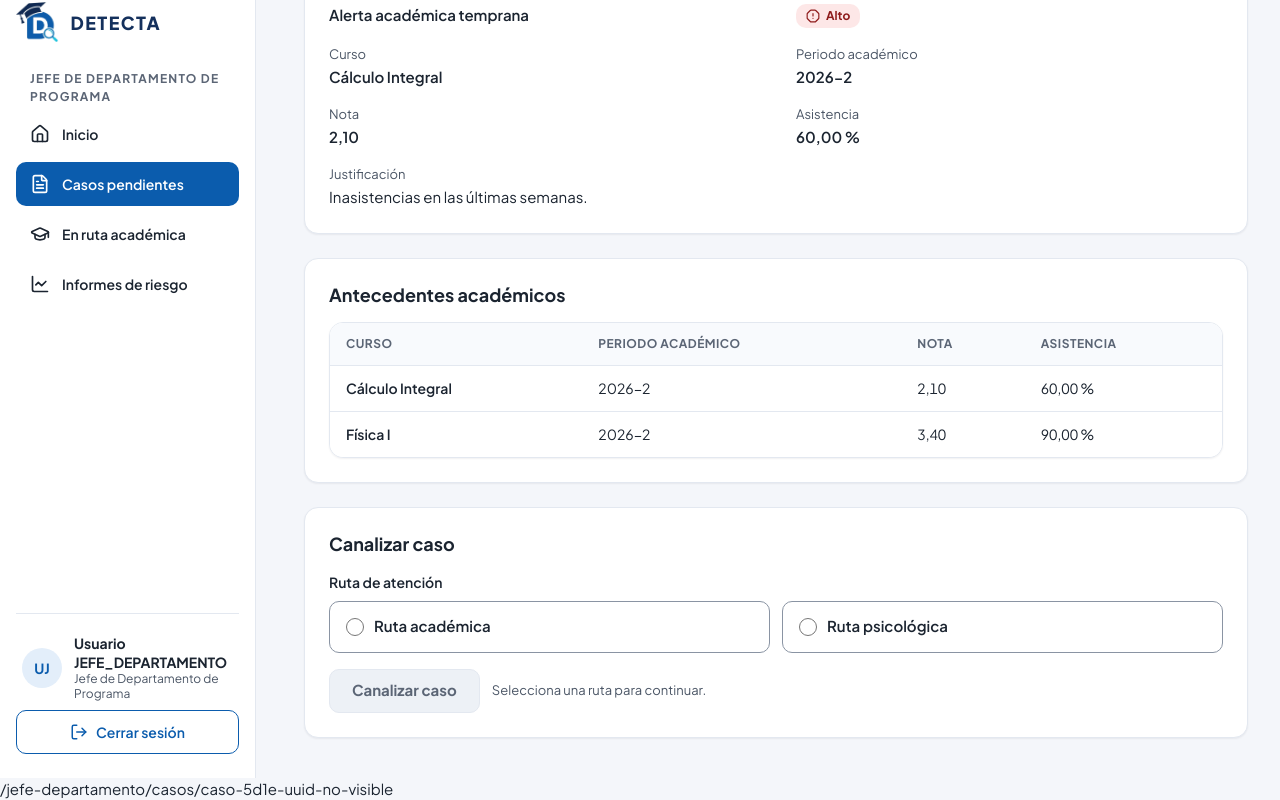
Canalización del caso (CUD04) › académica: confirma y abre el plan de nivelación en la misma vista
(page scrolled)
Click the radio button labelled "Ruta académica": (355, 627) [346,618,364,636]
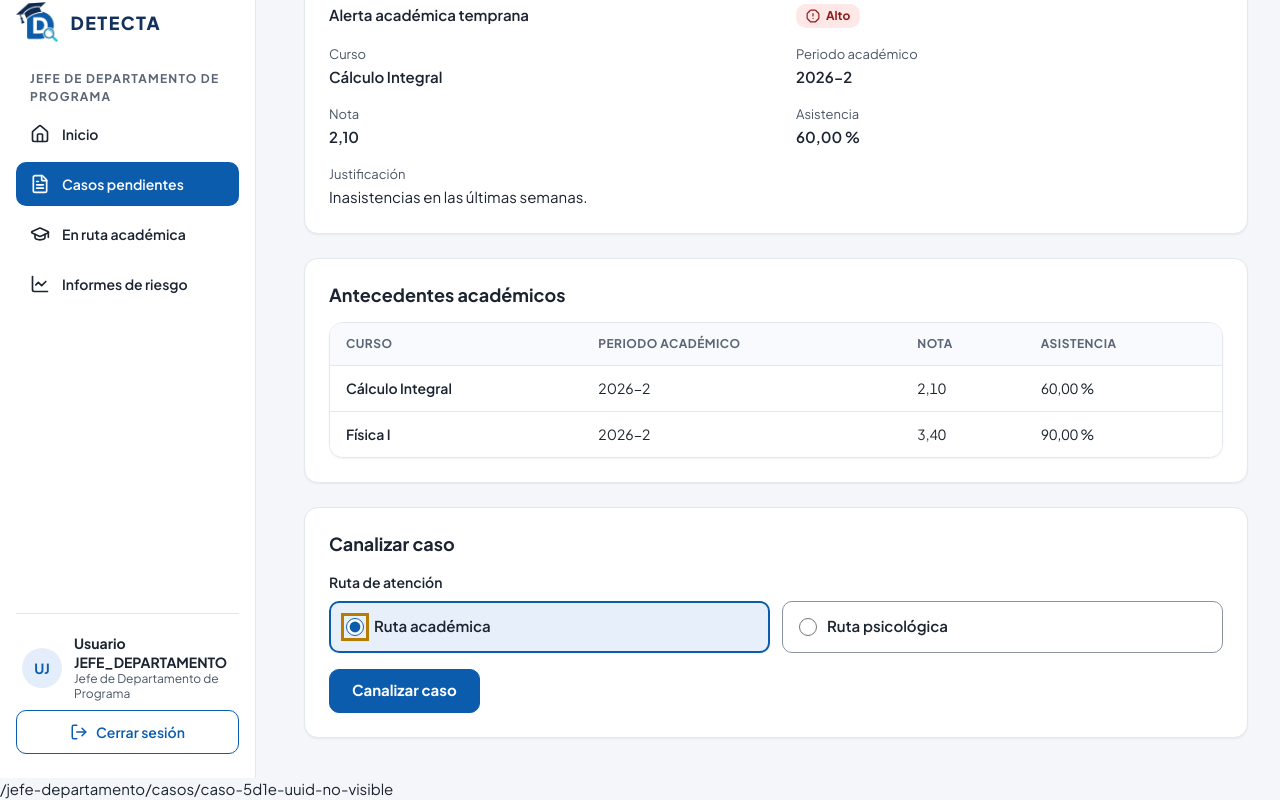
Click the button "Canalizar caso": (404, 691) [329,669,480,713]
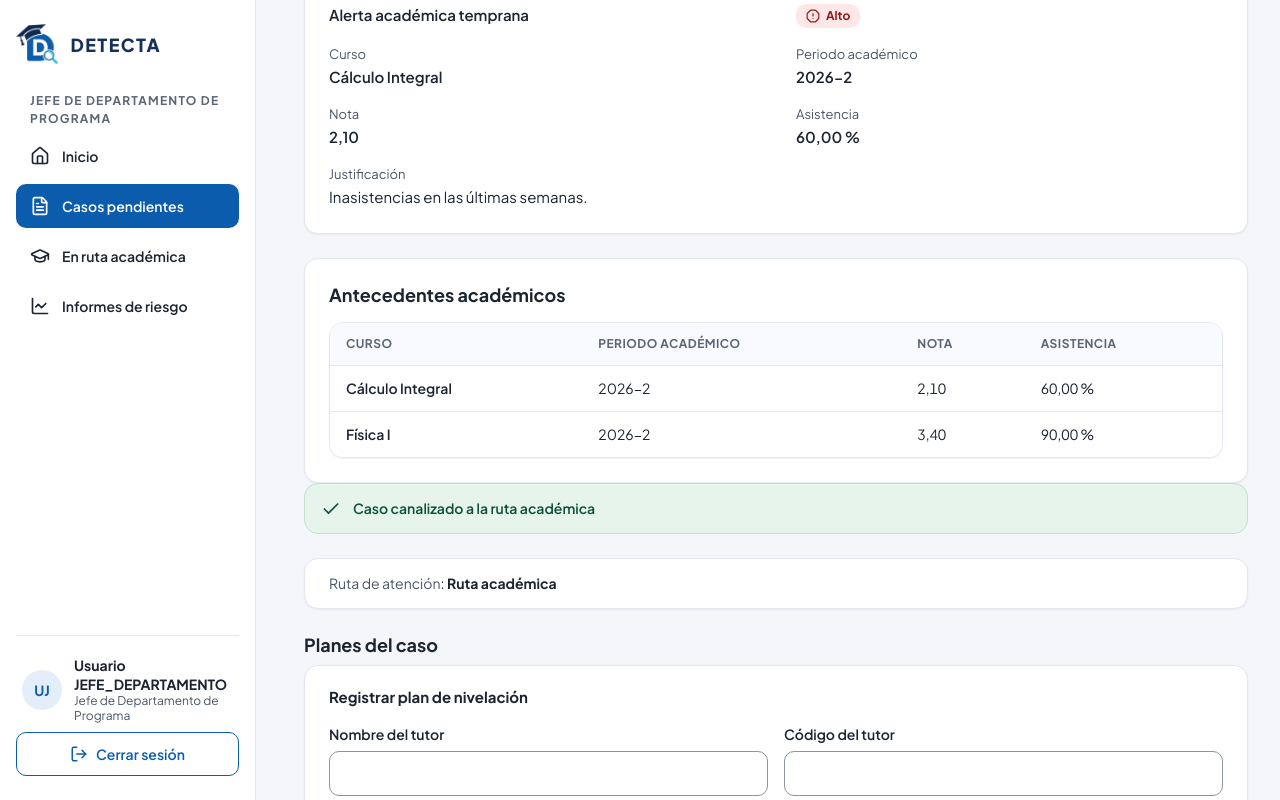
Now the message reads "Caso canalizado a la ruta académica", box [353,499,595,517]
Now the heading "Planes del caso" is shown, box [304,633,438,656]
Now the heading "Canalizar caso" is gone
